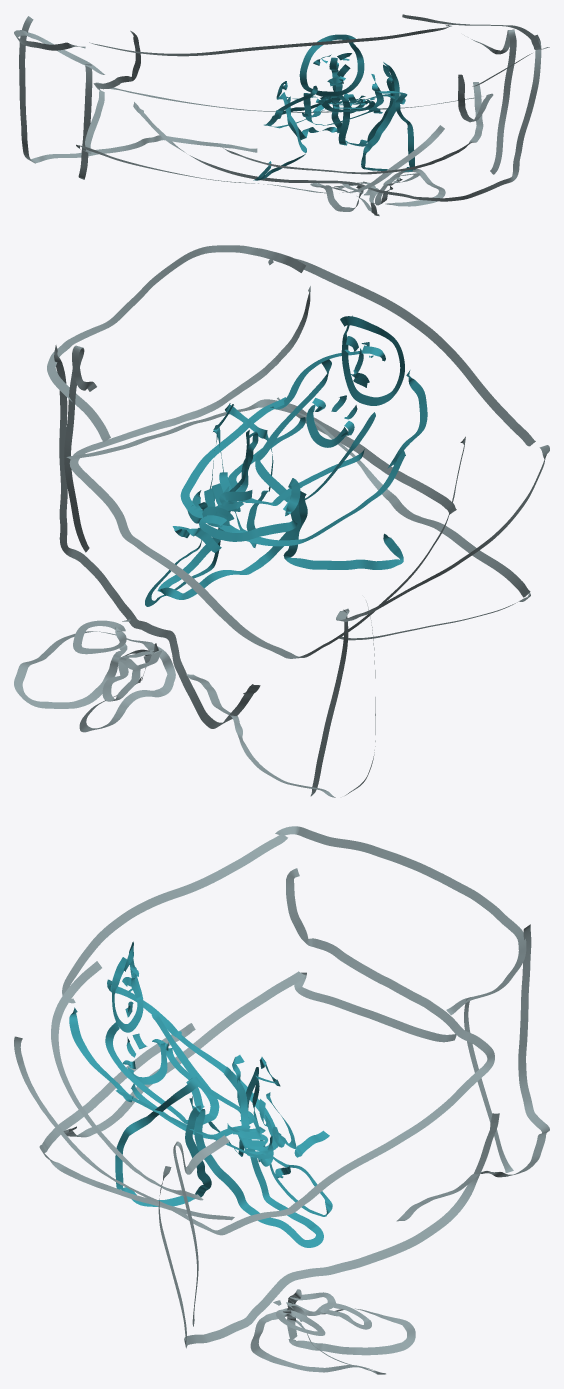
3 renders of one model, top to bottom at view 1: azimuth 30°, elevation 25°; view 2: azimuth 150°, elevation 25°; view 3: azimuth 270°, elevation 25°, orthographic. The views are drawn at different scales.
Parts seen in each view (by area): view 1: brush_Paper_g0_b0; view 2: brush_Paper_g0_b0; view 3: brush_Paper_g0_b0.
Boxes of the visible parts, x1,y1,x2,y2 form: brush_Paper_g0_b0: [14, 14, 549, 216]; brush_Paper_g0_b0: [14, 245, 549, 797]; brush_Paper_g0_b0: [14, 826, 549, 1374].
Bounding box in the file's own units: 1.66 × 1.01 × 1.37.
Materials: 1 (1 with a texture image).
